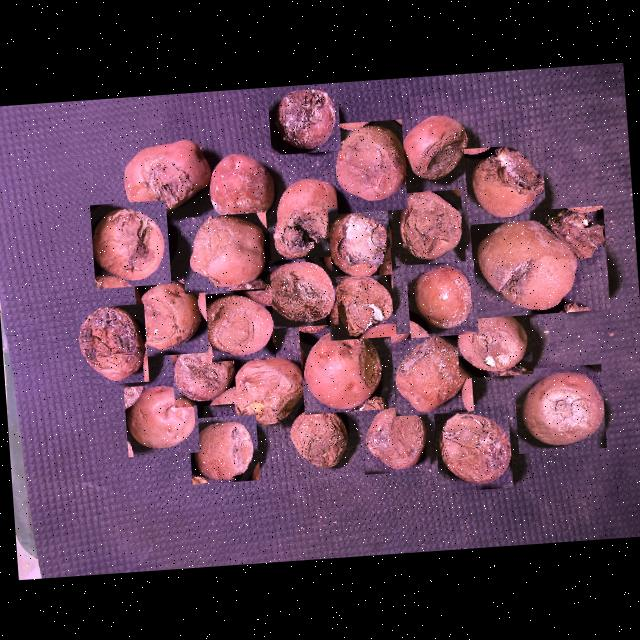Damaged potato: (468, 204, 609, 317), (512, 362, 606, 452), (298, 320, 388, 414), (119, 132, 214, 219), (178, 210, 270, 292), (266, 173, 346, 266), (88, 198, 170, 288), (389, 328, 473, 415), (331, 118, 406, 213), (432, 404, 512, 491), (462, 142, 546, 224), (228, 348, 314, 426), (202, 146, 280, 230), (74, 302, 148, 385), (255, 255, 338, 328), (453, 302, 532, 378), (133, 277, 208, 356), (389, 188, 464, 265), (196, 288, 274, 362), (397, 106, 471, 183), (265, 81, 341, 154), (282, 400, 354, 473), (359, 401, 430, 473), (186, 412, 258, 483), (326, 203, 391, 277), (325, 271, 395, 339), (170, 338, 236, 406)
Diseased-fungal potato: (122, 381, 200, 456), (404, 258, 477, 337)
